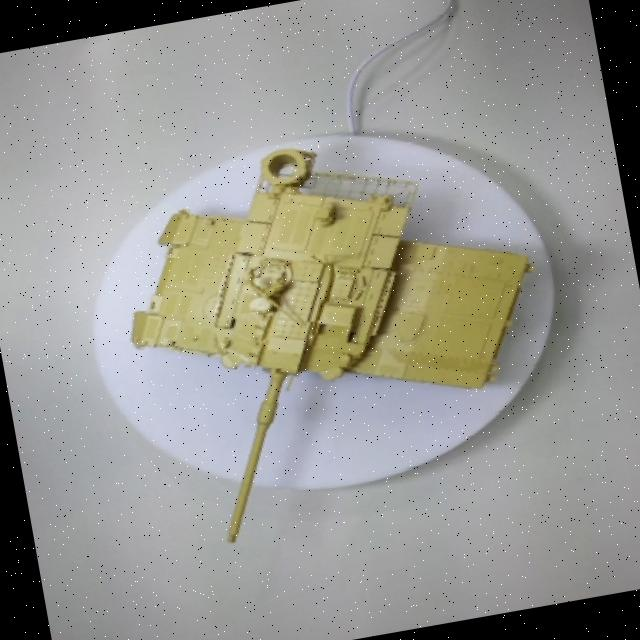korea tank: (74, 112, 572, 602)
